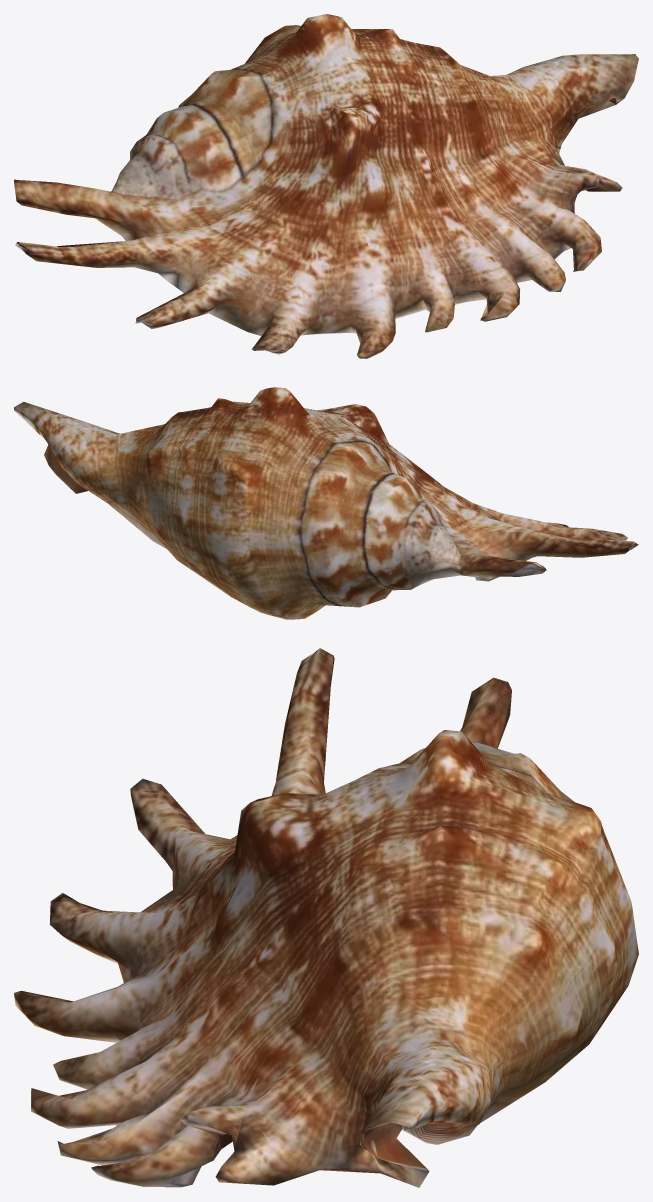
File: lambis_shell.glb
The picture shows the model from 3 angles, top to bottom: view 1: azimuth 30°, elevation 25°; view 2: azimuth 150°, elevation 25°; view 3: azimuth 270°, elevation 25°; orthographic projection. The views are drawn at different scales.
Parts seen in each view (by area): view 1: lambis_shell; view 2: lambis_shell; view 3: lambis_shell.
Part boxes in pixels (x1,y1,x2,y2): lambis_shell: [14, 14, 638, 358]; lambis_shell: [14, 387, 638, 619]; lambis_shell: [14, 648, 638, 1187].
Size of the model in its own units: 0.1387 by 0.0464 by 0.0744.
1 material, 1 textured.
